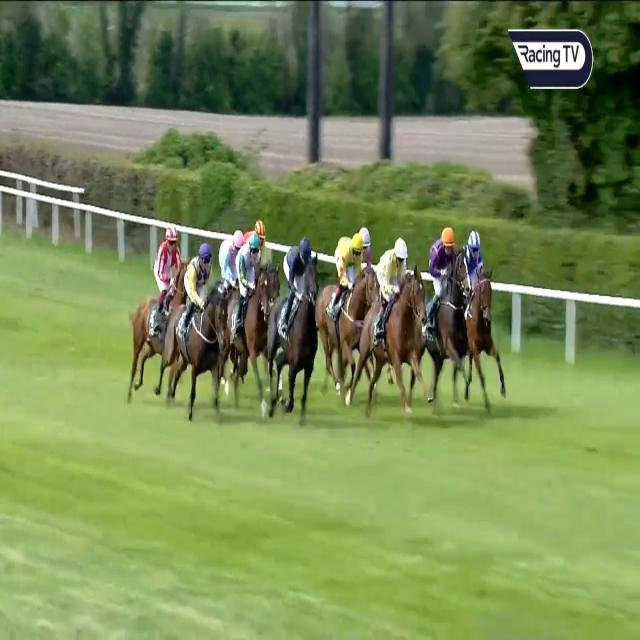horses-racing: (361, 232, 429, 427), (264, 229, 319, 420), (168, 240, 228, 411), (129, 226, 190, 392), (321, 238, 378, 407), (462, 224, 504, 414), (229, 236, 272, 413), (427, 221, 465, 421), (214, 223, 243, 293), (352, 222, 378, 265), (252, 209, 269, 250)
